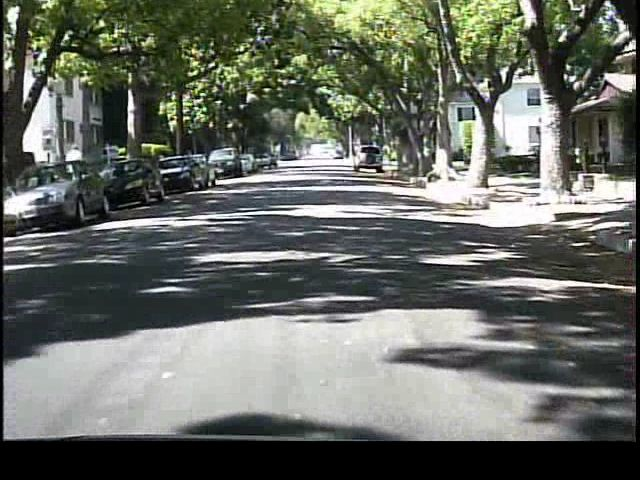person: (65, 141, 91, 198)
